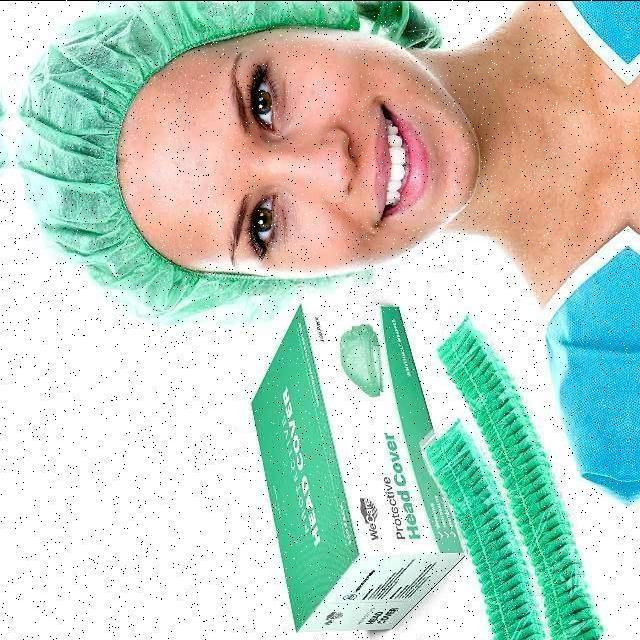gloves: (35, 0, 204, 295)
no_hairnet: (322, 93, 438, 227)
